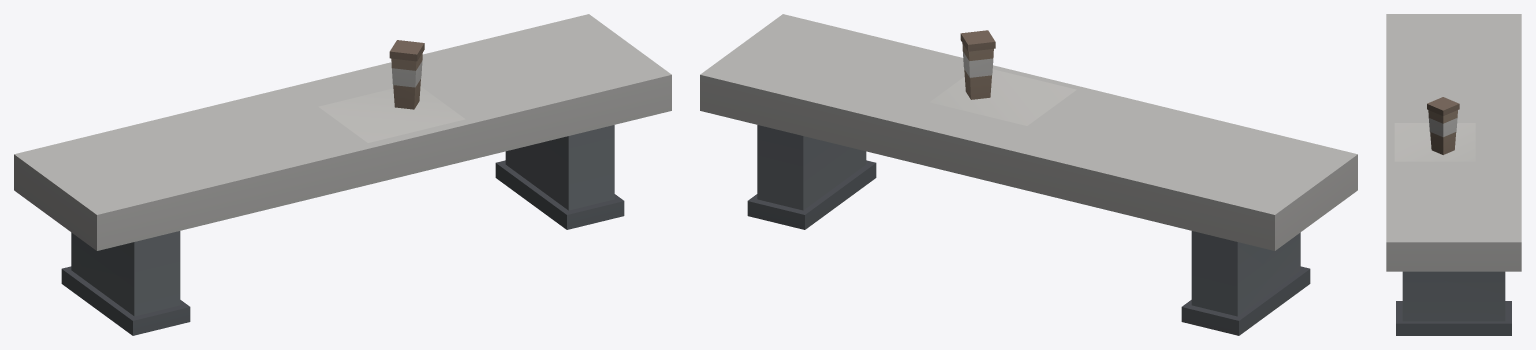
File: bench.lod1.glb
3 views of the same model, side by side, from view 1: azimuth 30°, elevation 25°; view 2: azimuth 150°, elevation 25°; view 3: azimuth 270°, elevation 25° (orthographic). The views are drawn at different scales.
Size of the model in its own units: 2 by 0.643 by 0.5.
